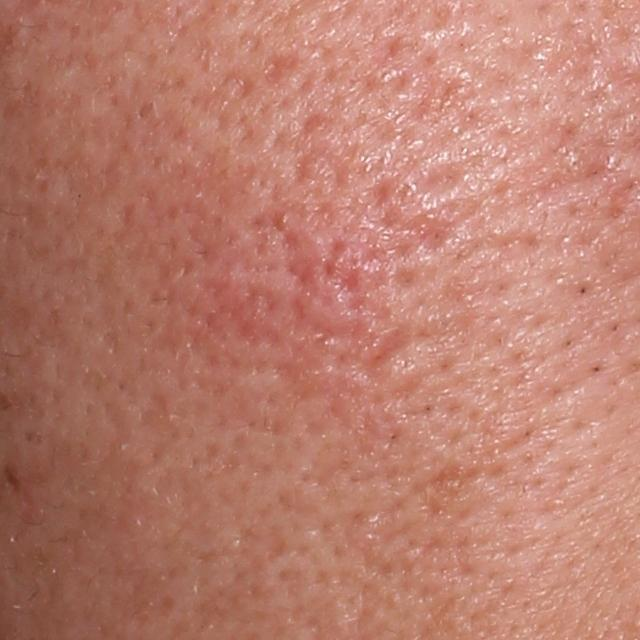atrophic_scar: (416, 459, 489, 527), (266, 211, 316, 287), (377, 202, 448, 255), (356, 323, 416, 371), (406, 160, 462, 196), (264, 52, 300, 86)
